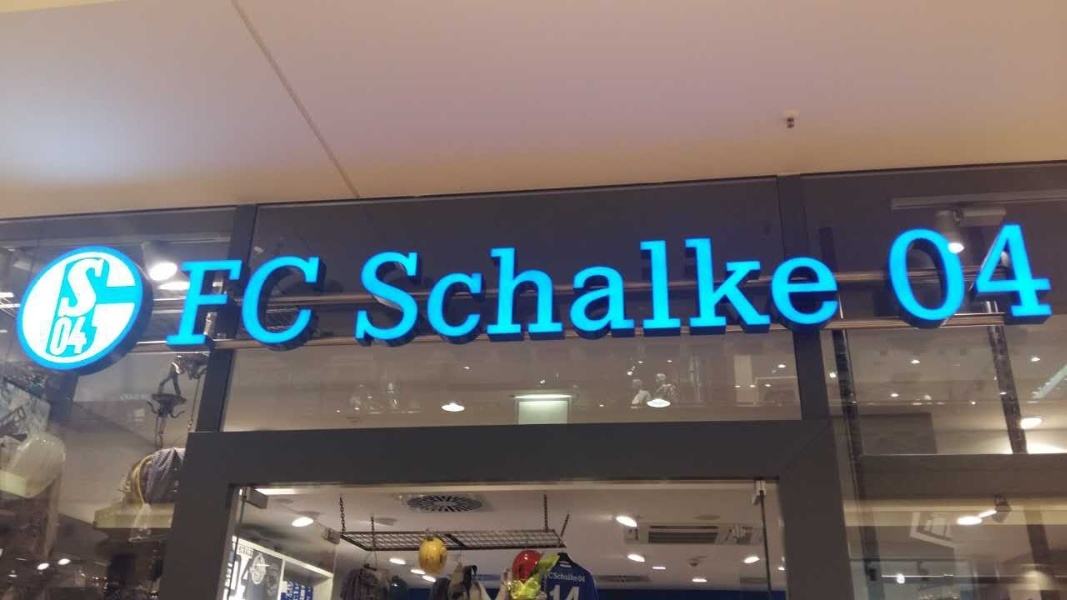text: (369, 233, 384, 341), (385, 233, 400, 341), (401, 233, 416, 341), (417, 233, 432, 341), (433, 233, 448, 341), (449, 233, 464, 341), (465, 233, 480, 341), (481, 233, 496, 341), (497, 233, 512, 341), (513, 233, 528, 341), (529, 233, 544, 341), (545, 233, 560, 341), (561, 233, 576, 341), (577, 233, 592, 341), (593, 233, 608, 341), (609, 233, 624, 341), (625, 233, 640, 341), (641, 233, 656, 341), (657, 233, 672, 341), (673, 233, 688, 341), (689, 233, 704, 341), (705, 233, 720, 341), (721, 233, 736, 341), (737, 233, 752, 341), (753, 233, 768, 341), (769, 233, 784, 341), (785, 233, 800, 341), (801, 233, 816, 341), (817, 233, 832, 341), (1041, 223, 1057, 324), (897, 223, 912, 324), (913, 223, 928, 324), (929, 223, 944, 324), (945, 223, 960, 324), (961, 223, 976, 324), (977, 223, 992, 324), (993, 223, 1008, 324), (1009, 223, 1024, 324), (1025, 223, 1040, 324), (81, 259, 96, 358), (305, 256, 321, 347), (193, 256, 208, 347), (209, 256, 224, 347), (225, 256, 240, 347), (241, 256, 256, 347), (257, 256, 272, 347), (273, 256, 288, 347), (289, 256, 304, 347), (883, 223, 896, 324), (833, 233, 842, 341), (71, 259, 80, 358), (97, 259, 106, 358), (183, 256, 192, 347), (363, 233, 368, 341), (561, 584, 576, 596), (561, 572, 576, 583), (547, 572, 560, 583), (550, 584, 560, 596), (577, 572, 586, 583), (577, 584, 580, 596)
